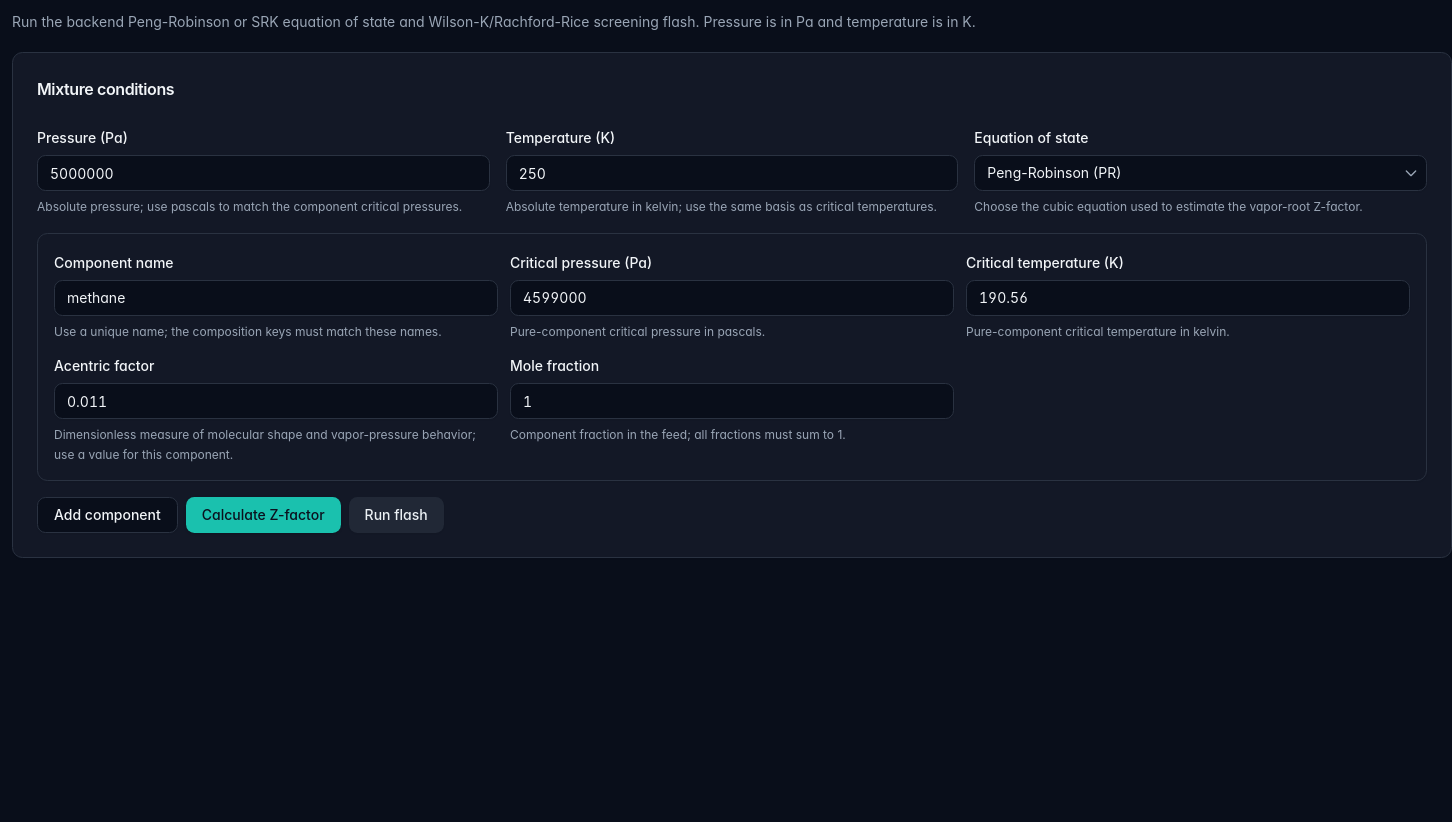
Test: PvtEosFlashView › does not submit a mixture whose mole fractions do not sum to one
Replace the text in the number field labelled "Mole fraction" with "0.5" at [732, 401], box [510,383,954,419]
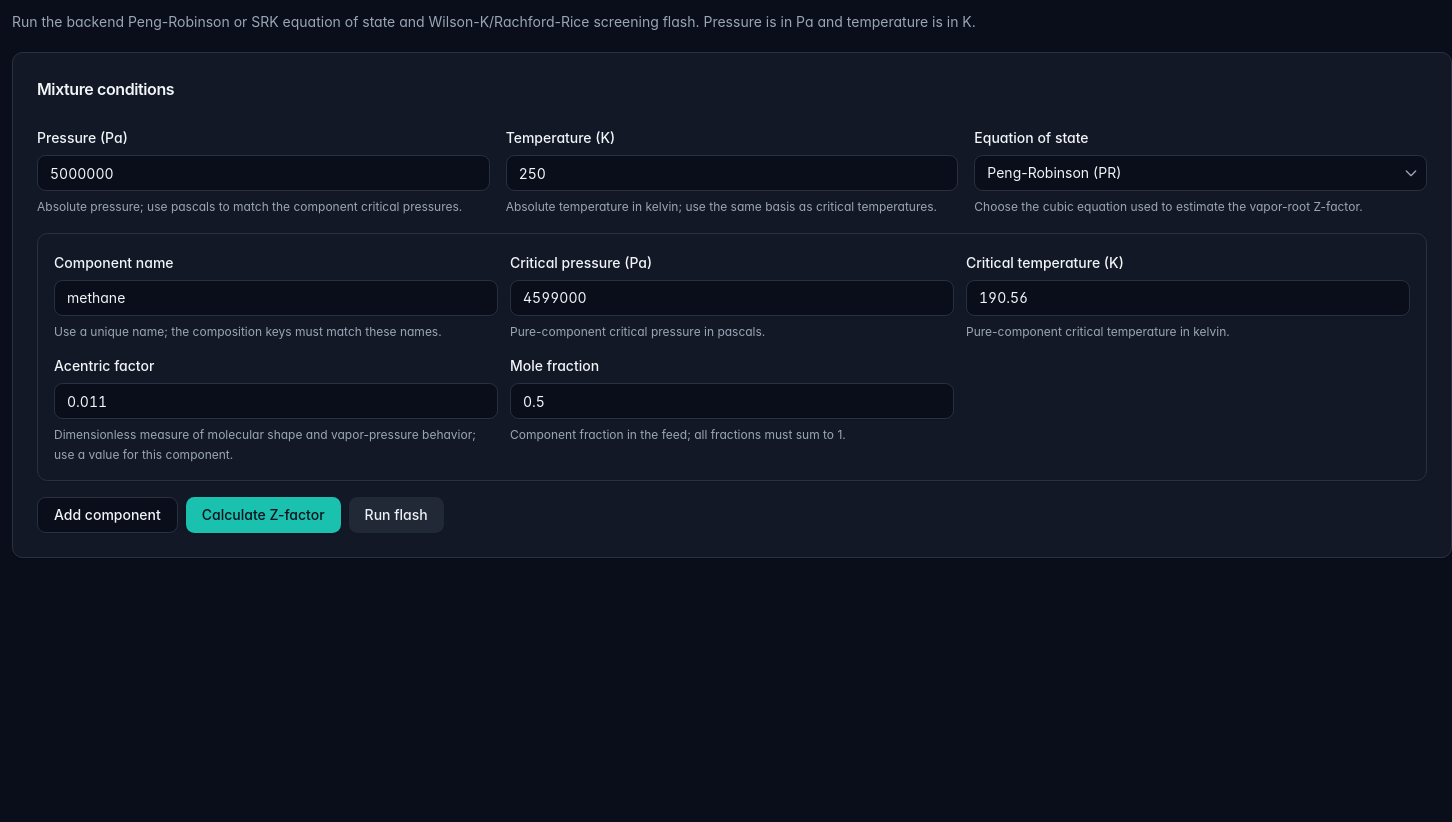
Click the button "Calculate Z-factor" at [263, 515], box [186,497,341,533]
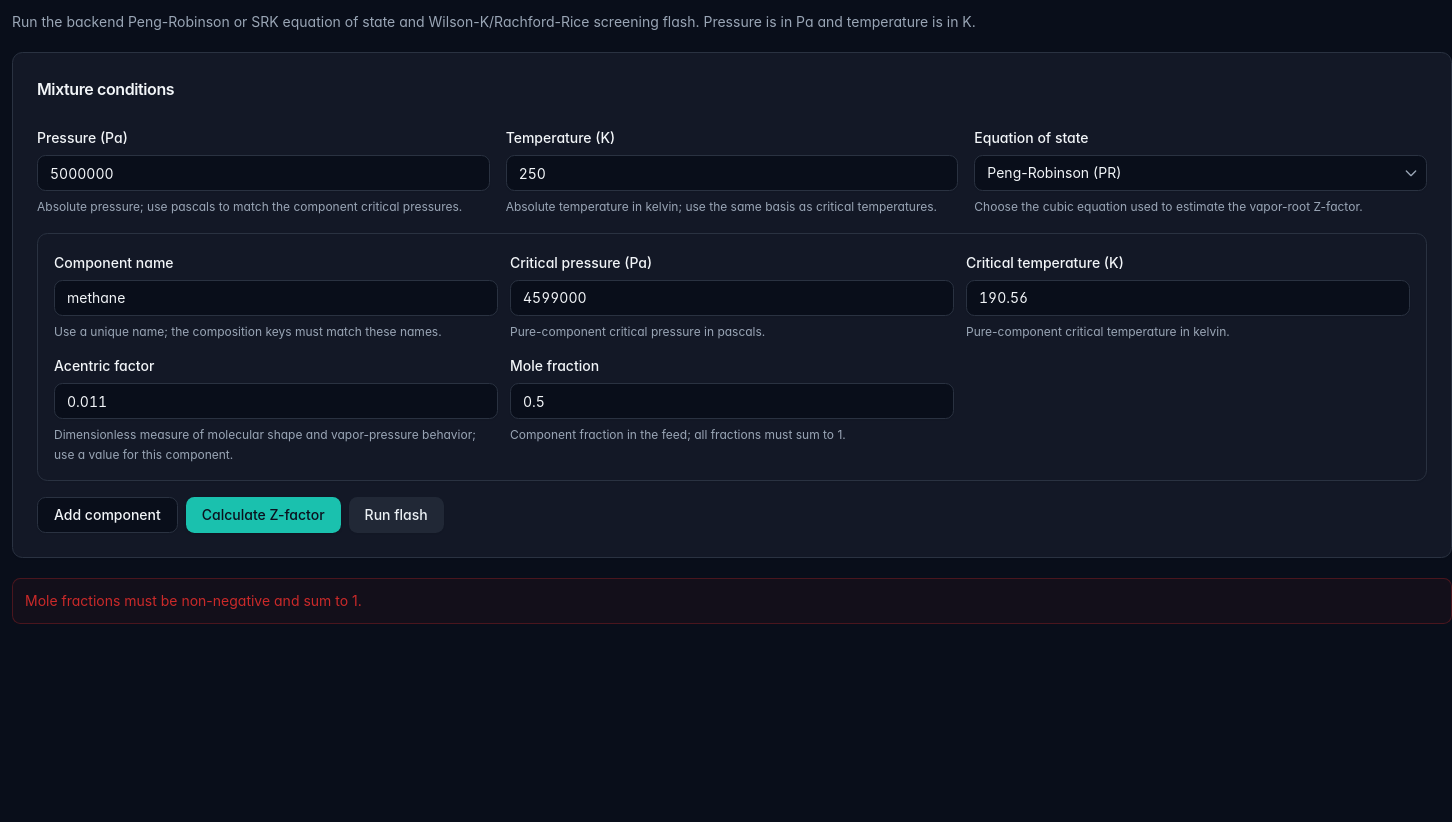
Now the message reads "Mole fractions must be non-negative and sum to 1.", box [25,592,362,609]
